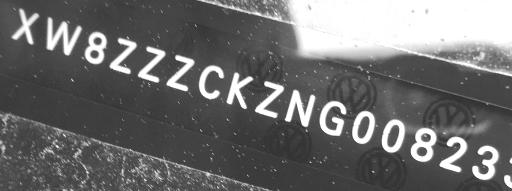letter: (41, 15, 87, 54), (164, 53, 196, 93), (466, 144, 502, 179), (107, 35, 137, 77), (193, 63, 227, 100), (136, 44, 168, 82), (316, 97, 348, 135), (253, 79, 285, 116), (284, 88, 316, 125), (436, 135, 468, 171), (346, 106, 376, 144), (405, 126, 437, 161), (10, 7, 40, 44), (224, 70, 252, 107), (376, 117, 406, 151), (84, 29, 108, 66)
